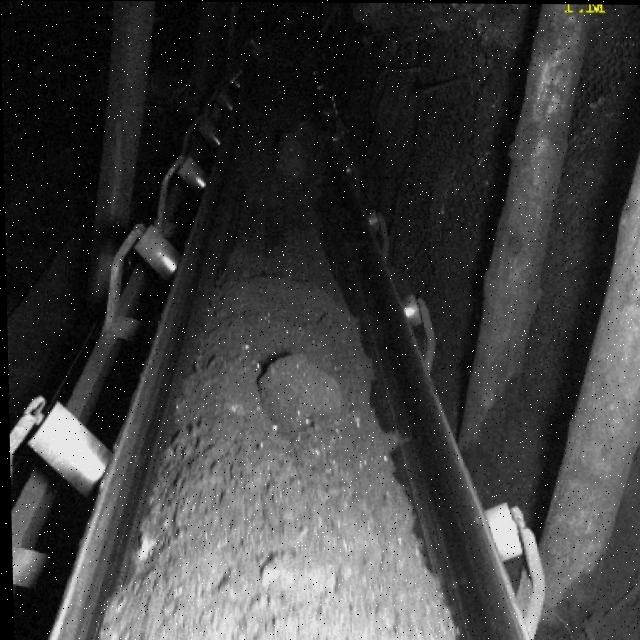large_sized_coal: (256, 351, 344, 428), (271, 121, 321, 187), (256, 554, 330, 596)
